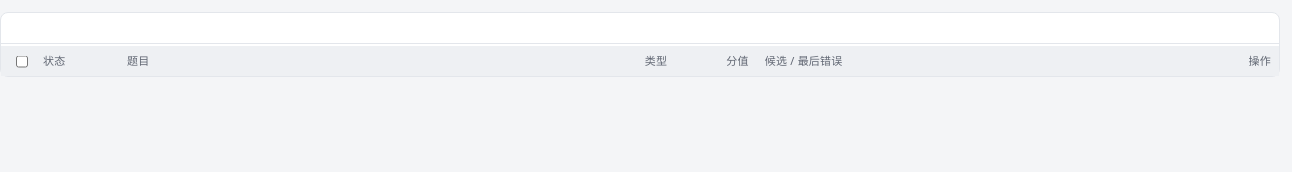
Test: ChallengeBoard：没有账号时不能开始解题 › ★ 批量「开始所选」同样禁用 —— 否则一次点醒一整批
The width and height of the screenshot is (1292, 172).
Click the checkbox named "选择当前列表里的全部题目": (22, 62) [16,56,28,68]
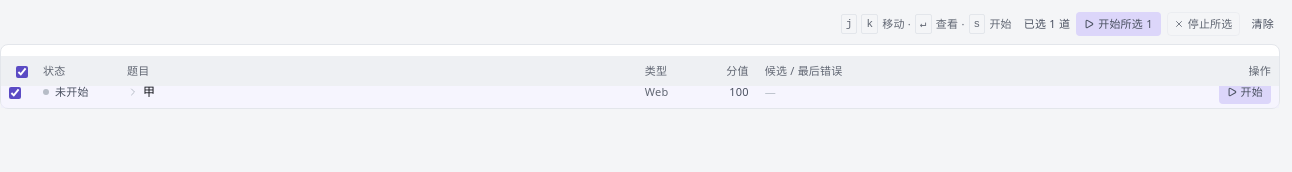
Expected: the button "开始所选 1" is disabled, [1076,12,1161,36]
